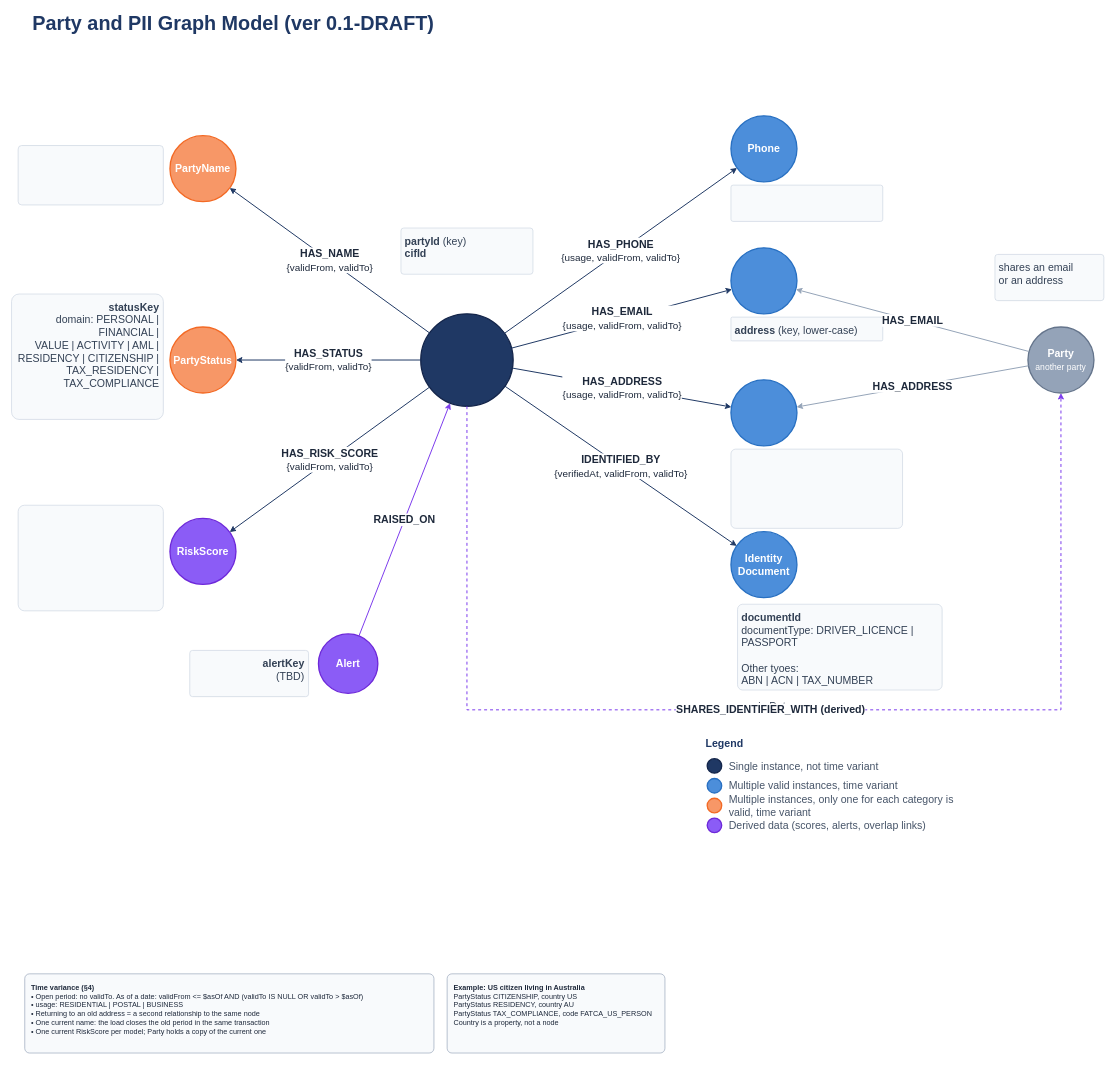
The diagram is 1115 pixels wide and 1065 high, and some of its shapes have lost their labels. The centre of each missing label's shape, as x and y in pixels:
Address: (763,412)
addressKey ( Hash of text or dpid if available) addressText isOverseas country: (816,488)
Email: (763,280)
nameKey givenName, familyName, fullName aliases: (90,175)
number type: (806,202)
Party :Person :Organisation: (466,360)
riskScoreKey (TBD): (90,558)
